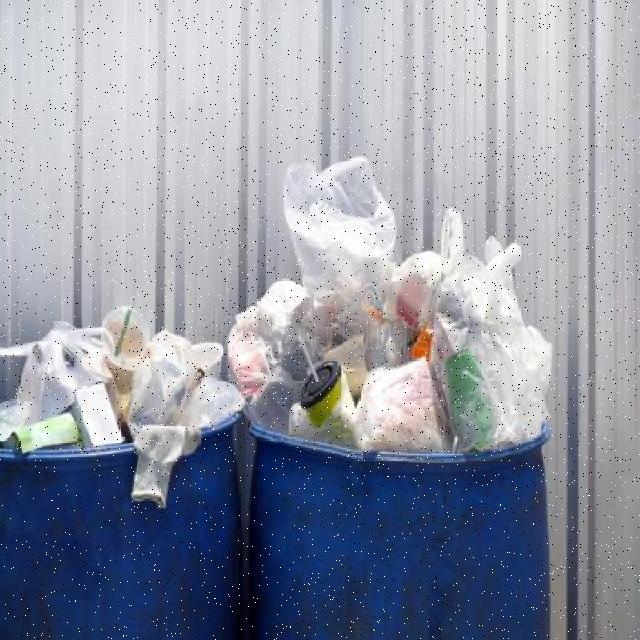garbage container: (248, 413, 562, 640), (2, 402, 247, 640)
